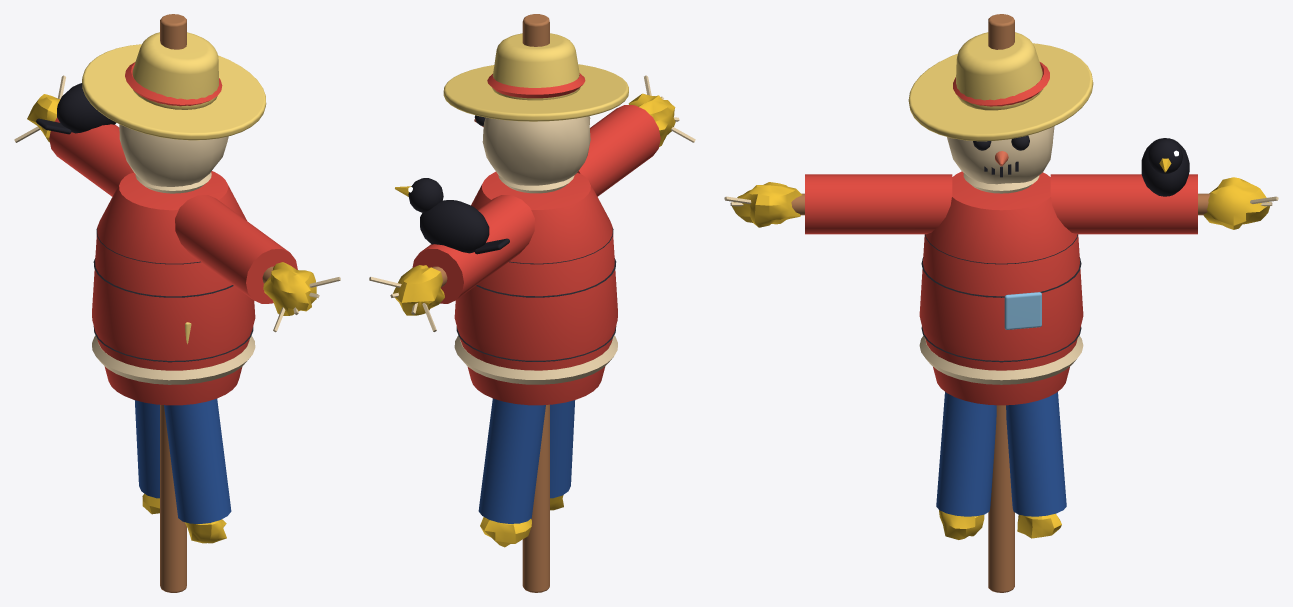
The model's file is scarecrow.glb.
The picture shows the model from 3 angles, left to right: view 1: azimuth 30°, elevation 25°; view 2: azimuth 150°, elevation 25°; view 3: azimuth 270°, elevation 25°; orthographic projection.
Parts seen in each view (by area): view 1: scarecrow; view 2: scarecrow; view 3: scarecrow.
Boxes of the visible parts, box(x1,y1,x2,y2) form: scarecrow: box(14, 14, 340, 592); scarecrow: box(369, 14, 695, 592); scarecrow: box(724, 14, 1278, 592).
Size of the model in its own units: 0.6768 by 2.3 by 2.03.
Materials: 1 (1 with a texture image).
